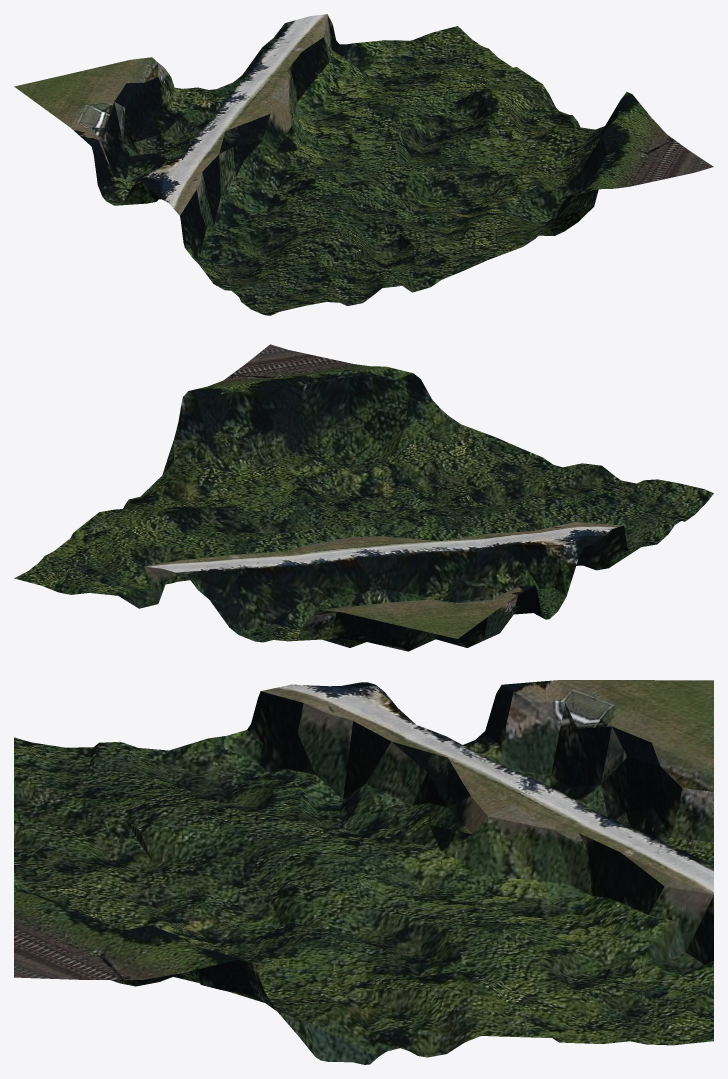
Rendered from map_15_8179_13785.dae.
3 renders of one model, top to bottom at view 1: azimuth 30°, elevation 25°; view 2: azimuth 150°, elevation 25°; view 3: azimuth 270°, elevation 25°, orthographic. The views are drawn at different scales.
Visible parts, largest first — view 1: Ter0; view 2: Ter0; view 3: Ter0.
Boxes of the visible parts, x1,y1,x2,y2 form: Ter0: [14, 14, 713, 315]; Ter0: [14, 344, 713, 651]; Ter0: [14, 680, 713, 1064].
Bounding box in the file's own units: 63.87 × 63.88 × 10.79.
3 materials, 3 textured.
